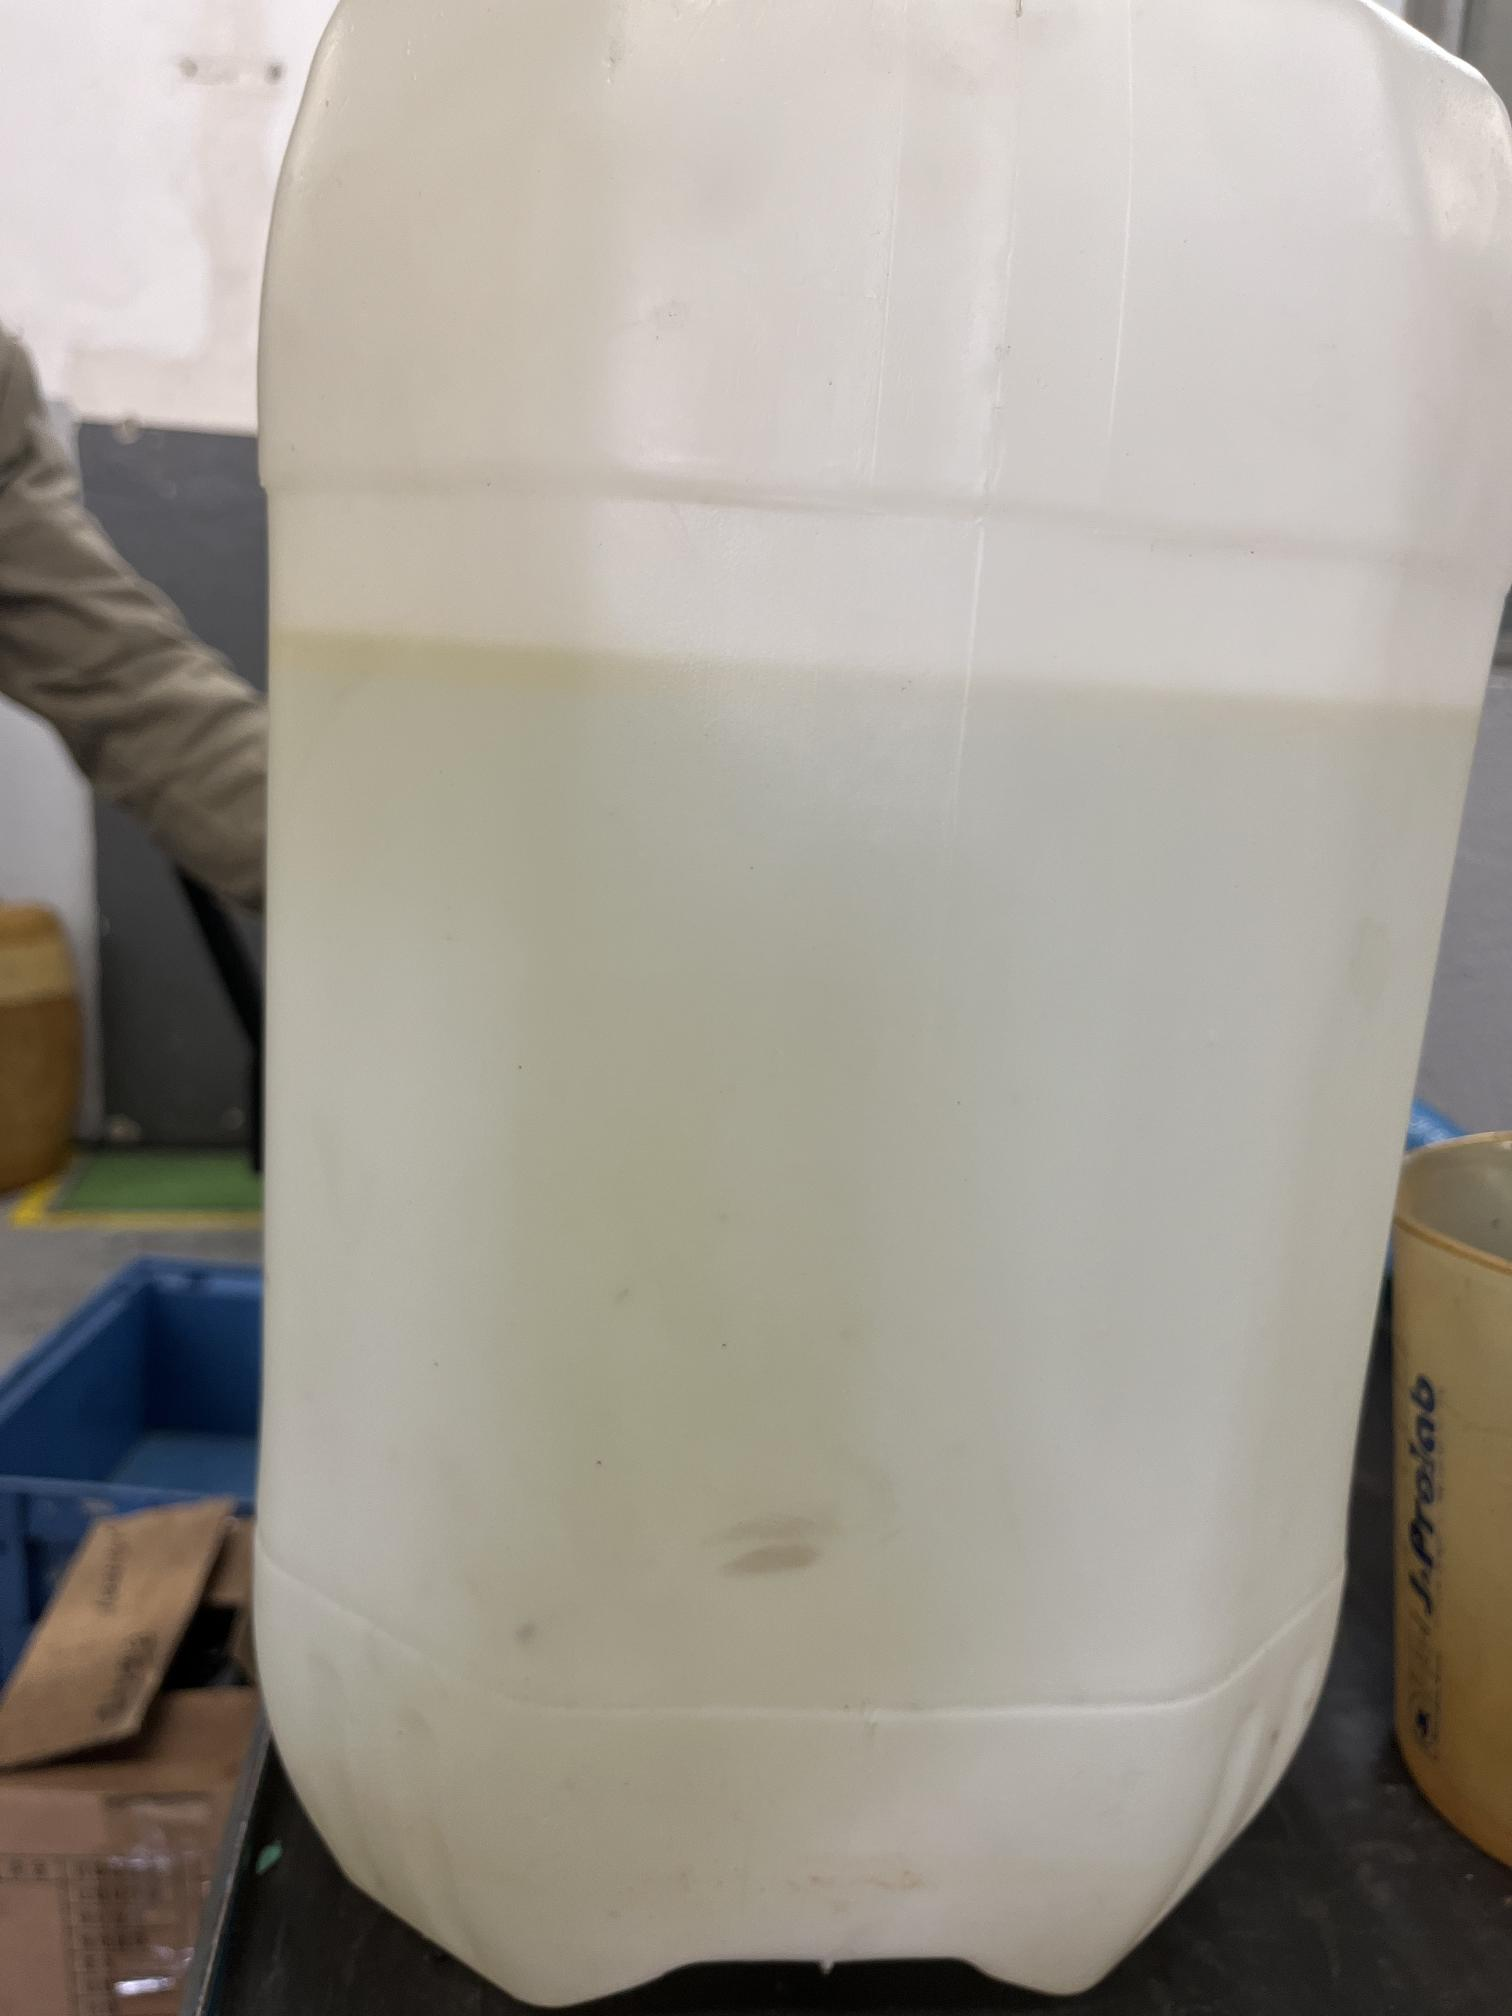Galao: (240, 5, 1460, 1950)
